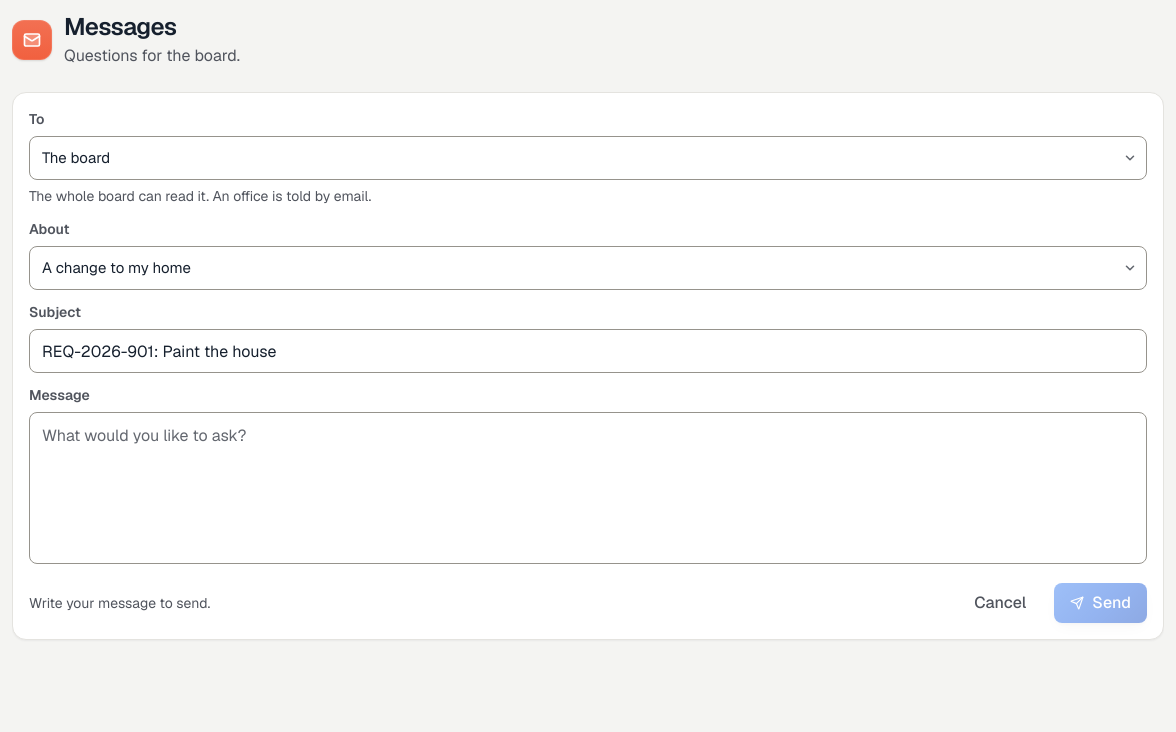
Message the board, from a request › clears the link from the address once the message is sent, so a reload is safe
Type "Can you confirm the paint color?" into the text box labelled "Message".
click(588, 488); type("Can you confirm the paint color?")  # box [29,412,1147,564]
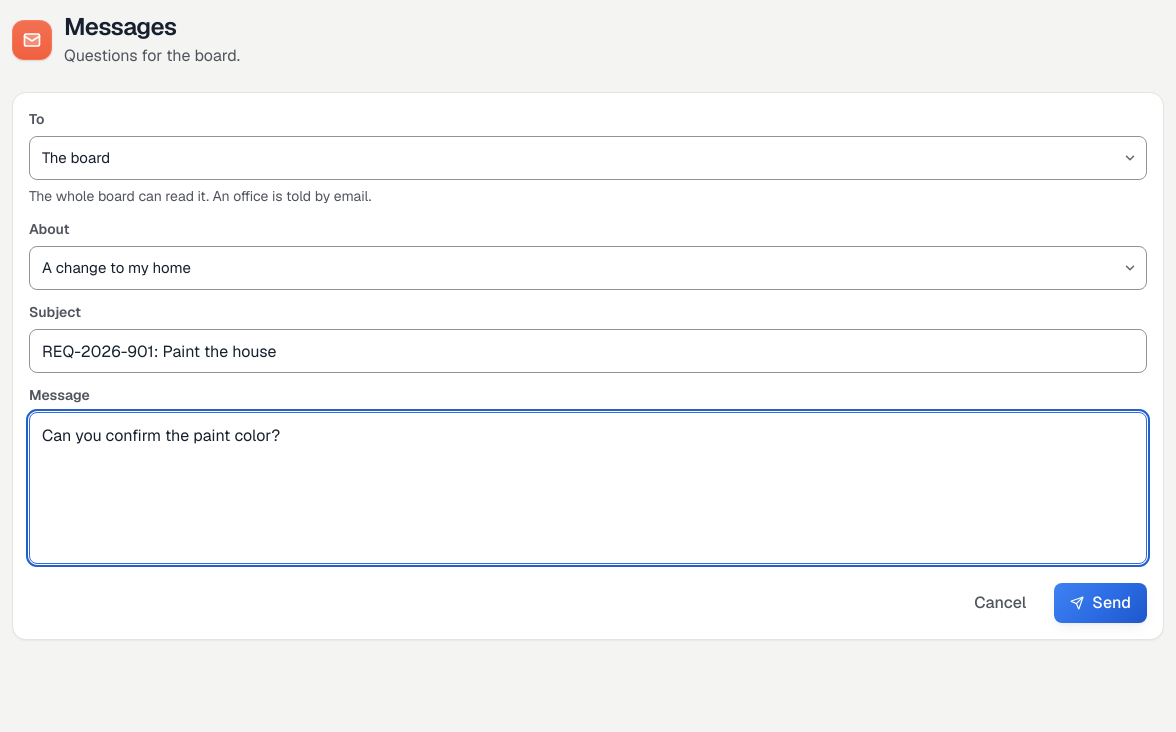
Click the button "Send".
click(1101, 603)  # box [1054,583,1147,623]
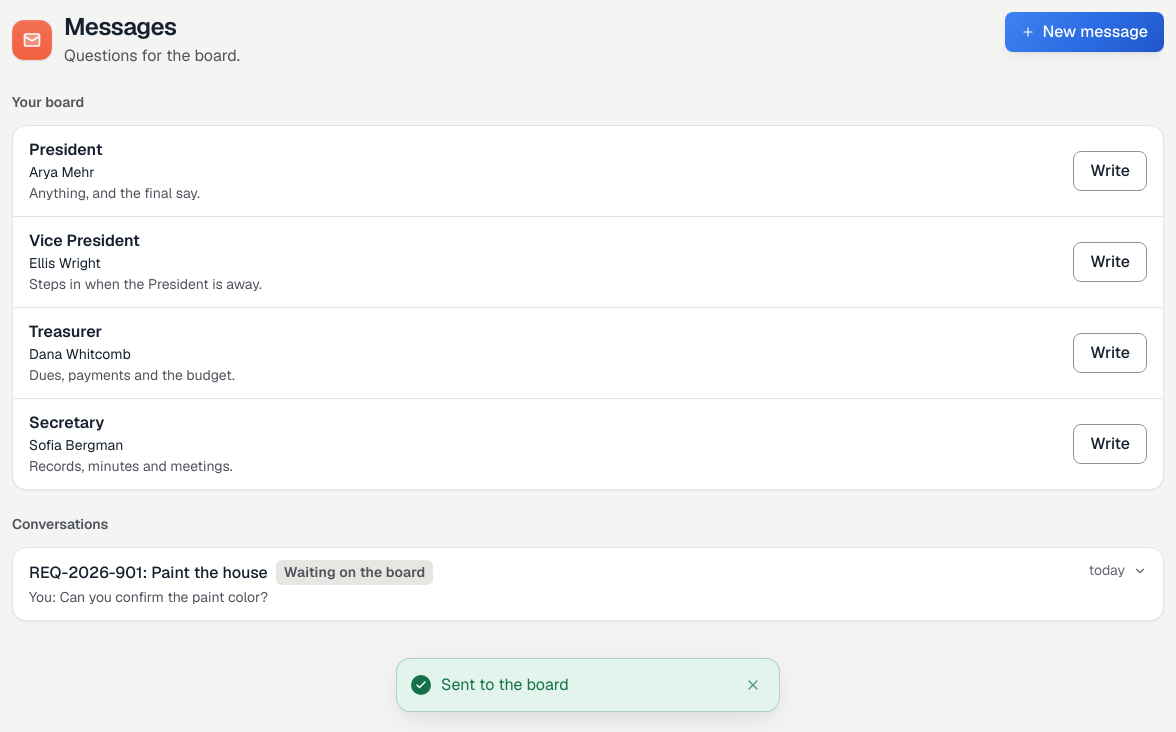
expect the heading "Conversations" is shown: met, box [12,514,108,535]
